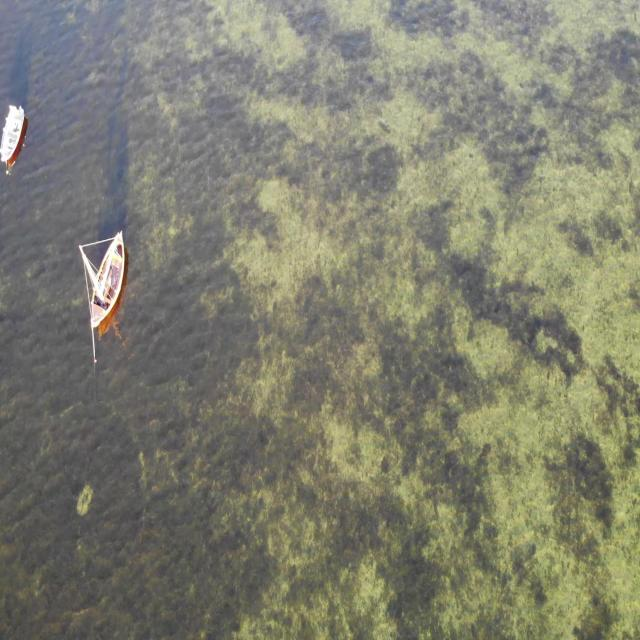boat: (0, 104, 28, 165)
sailboat: (77, 228, 126, 328)
